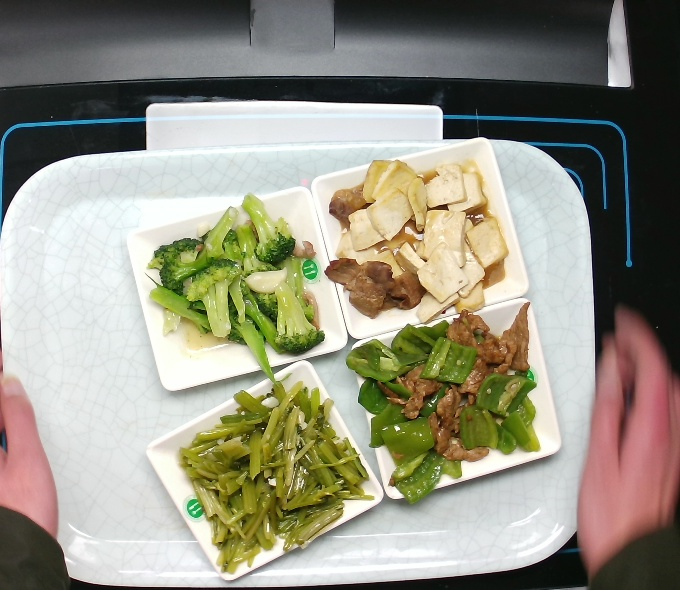wcq-DouFuRouPian: (320, 159, 533, 320)
wcq-QinCai: (186, 387, 369, 570)
wcq-QingJiaoChaoRou: (359, 313, 567, 505)
wcq-XiLanHua: (149, 194, 327, 369)
